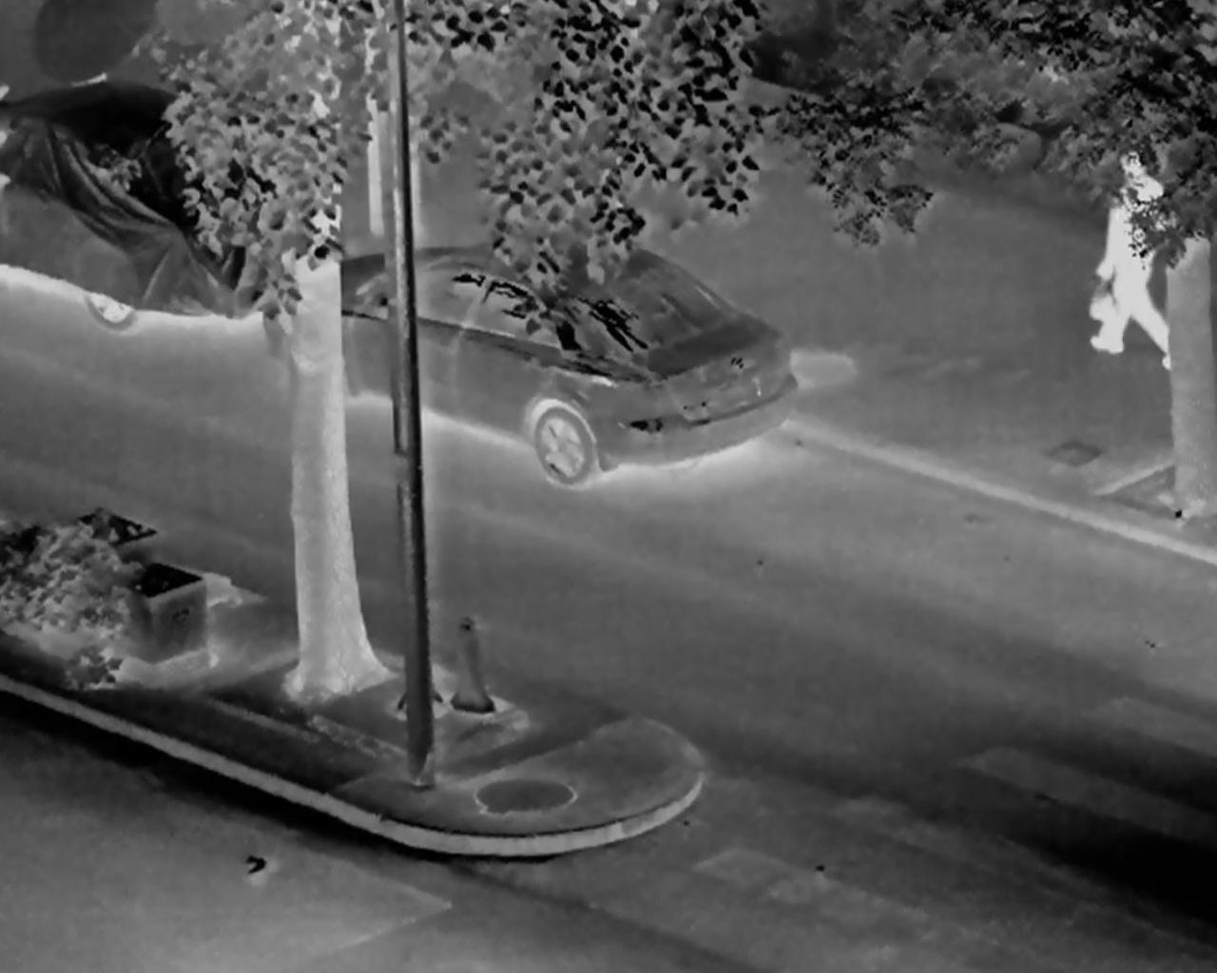person: (1087, 145, 1177, 369)
